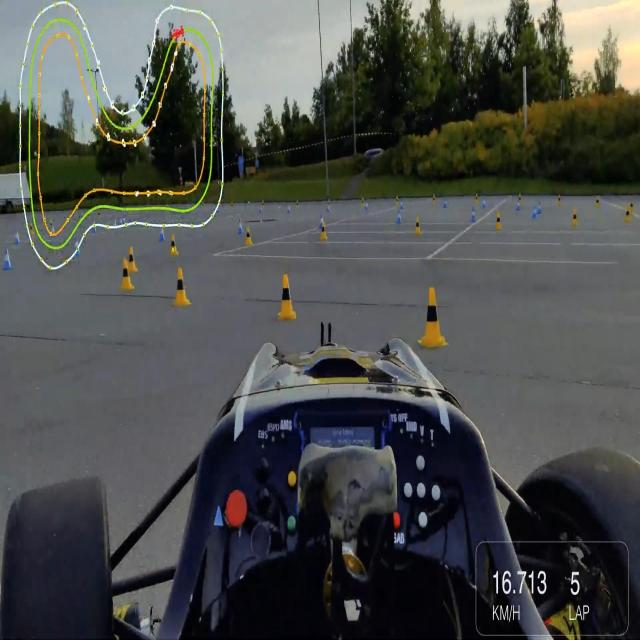blue_cone: (0, 248, 13, 274), (13, 229, 21, 249), (237, 217, 243, 236), (397, 208, 403, 226), (159, 226, 165, 243), (470, 208, 476, 223), (319, 214, 324, 228), (532, 203, 537, 217), (537, 202, 542, 215), (516, 201, 521, 212), (259, 206, 264, 216), (482, 199, 487, 209), (288, 205, 292, 216), (364, 201, 368, 211), (400, 200, 403, 210), (443, 199, 446, 209), (327, 203, 330, 213)
yellow_cone: (418, 284, 448, 350), (276, 273, 298, 324), (172, 266, 191, 307), (118, 256, 134, 292), (128, 244, 140, 275), (168, 234, 180, 258), (244, 226, 254, 248), (494, 210, 503, 231), (415, 216, 423, 238), (320, 223, 329, 242), (571, 208, 578, 228), (624, 207, 631, 223), (595, 196, 601, 209), (557, 195, 562, 209), (395, 196, 400, 209), (630, 200, 634, 216), (474, 194, 479, 204), (432, 194, 436, 205), (518, 193, 522, 202), (296, 200, 300, 208), (362, 197, 364, 207)
